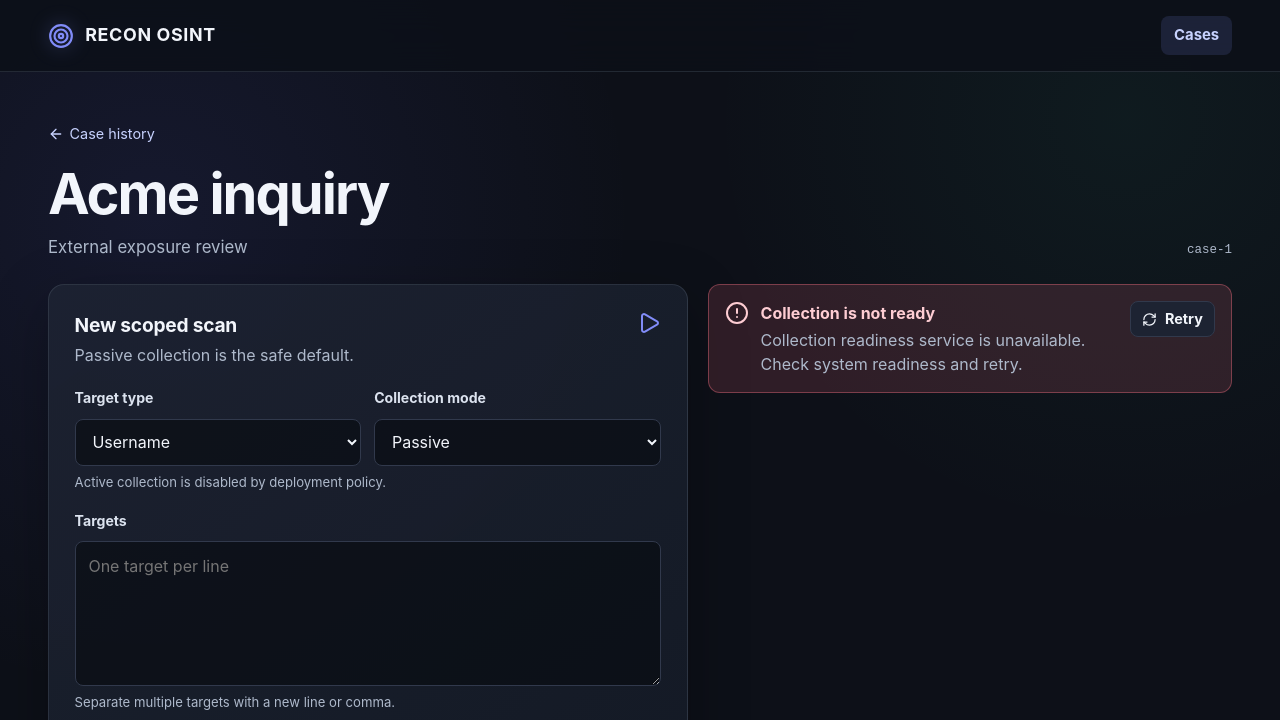
Test: retries capability preflight and clears the stale readiness error after recovery
Check: the text "Collection readiness service is unavailable" is shown, box [760,330,1085,374]
Click the button "Retry".
click(1173, 319)  # box [1130,301,1215,337]
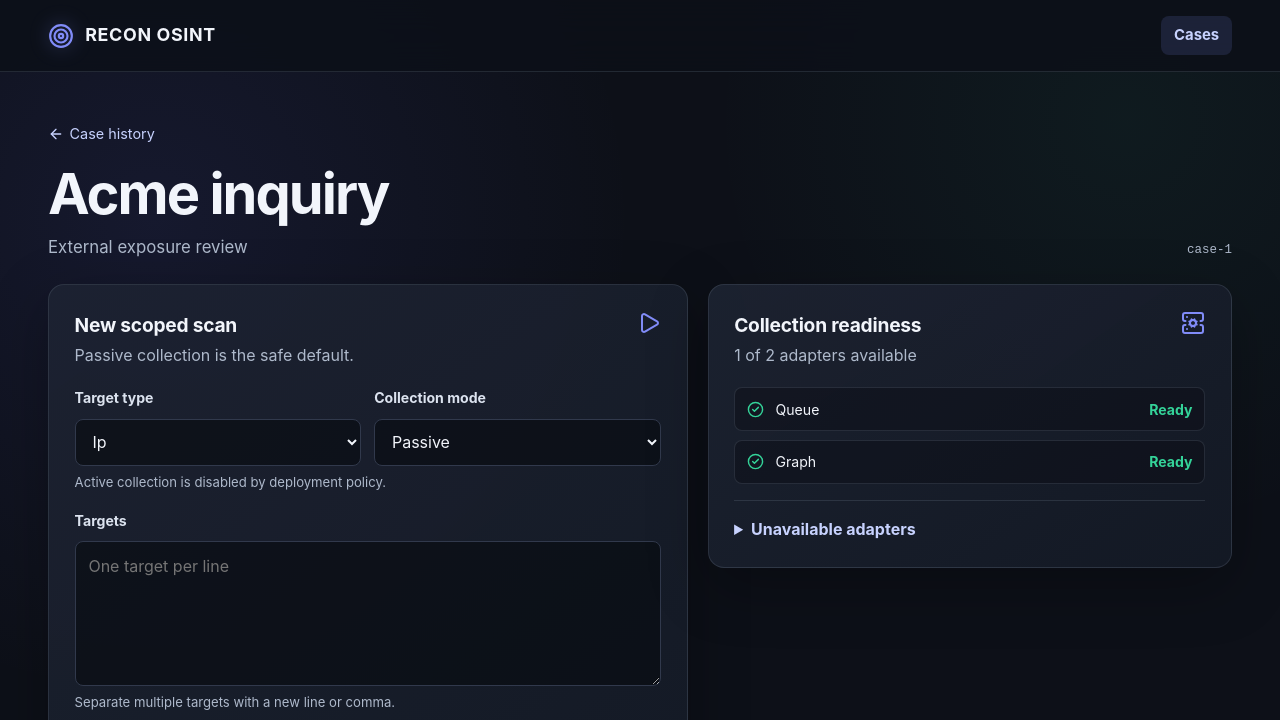
Check: the text "1 of 2 adapters available" is shown, box [734,343,921,367]
Check: the text "Collection readiness service is unavailable" is gone
